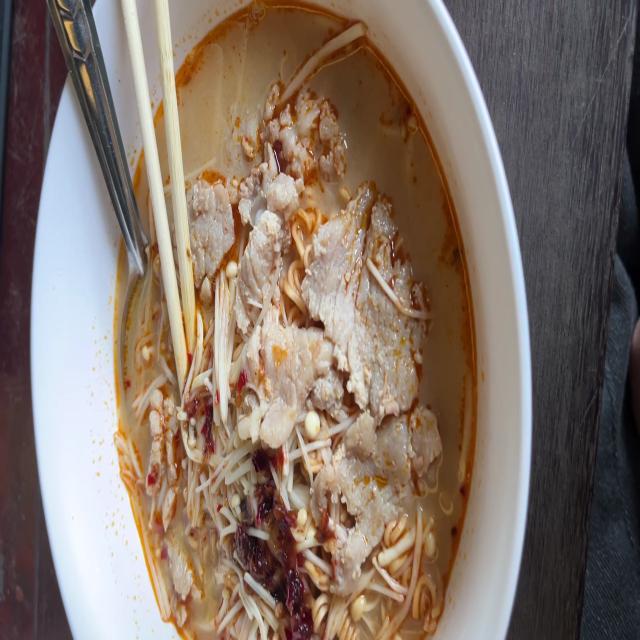noodle: (111, 0, 484, 640)
